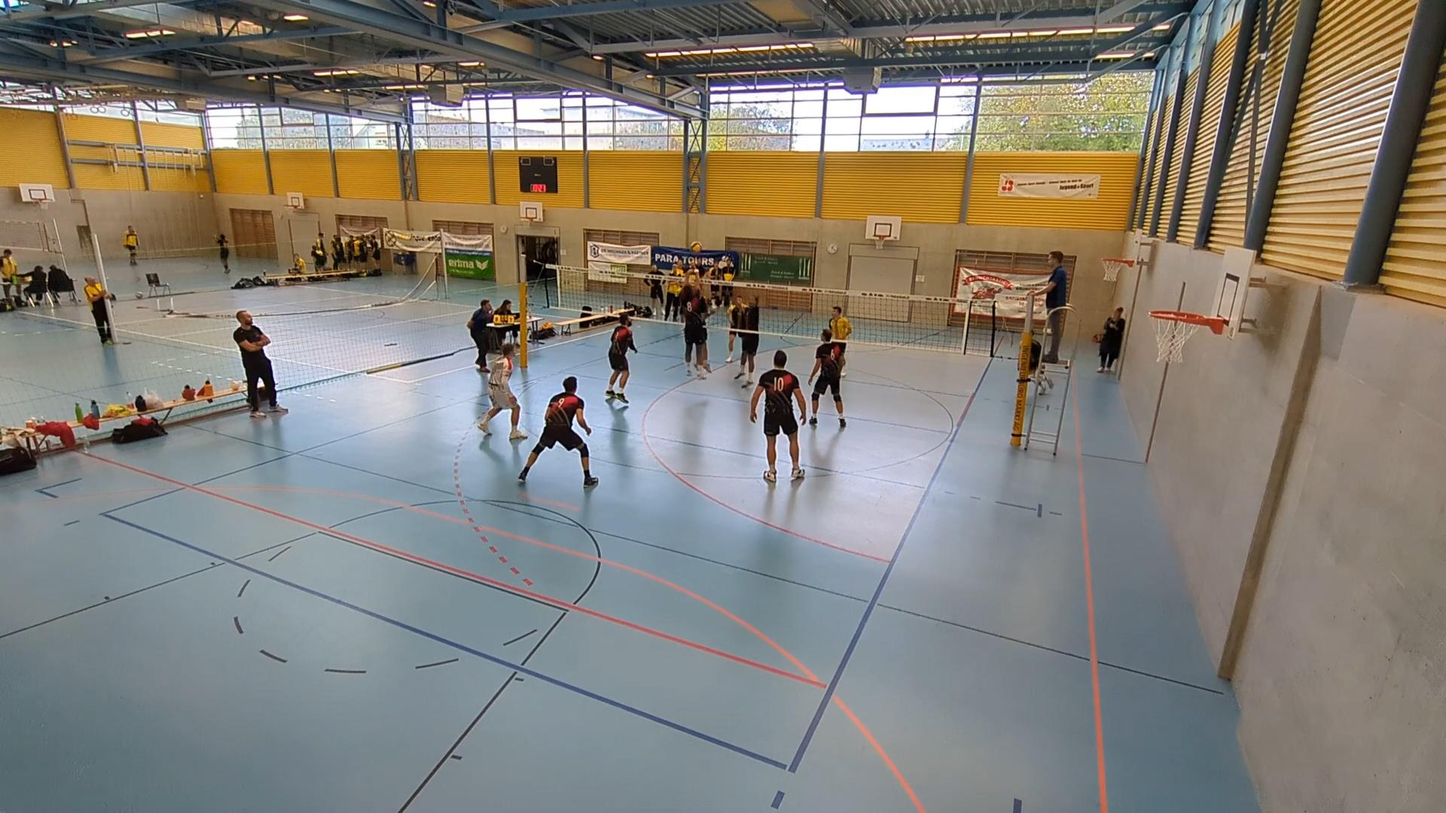muro: (676, 265, 713, 379)
